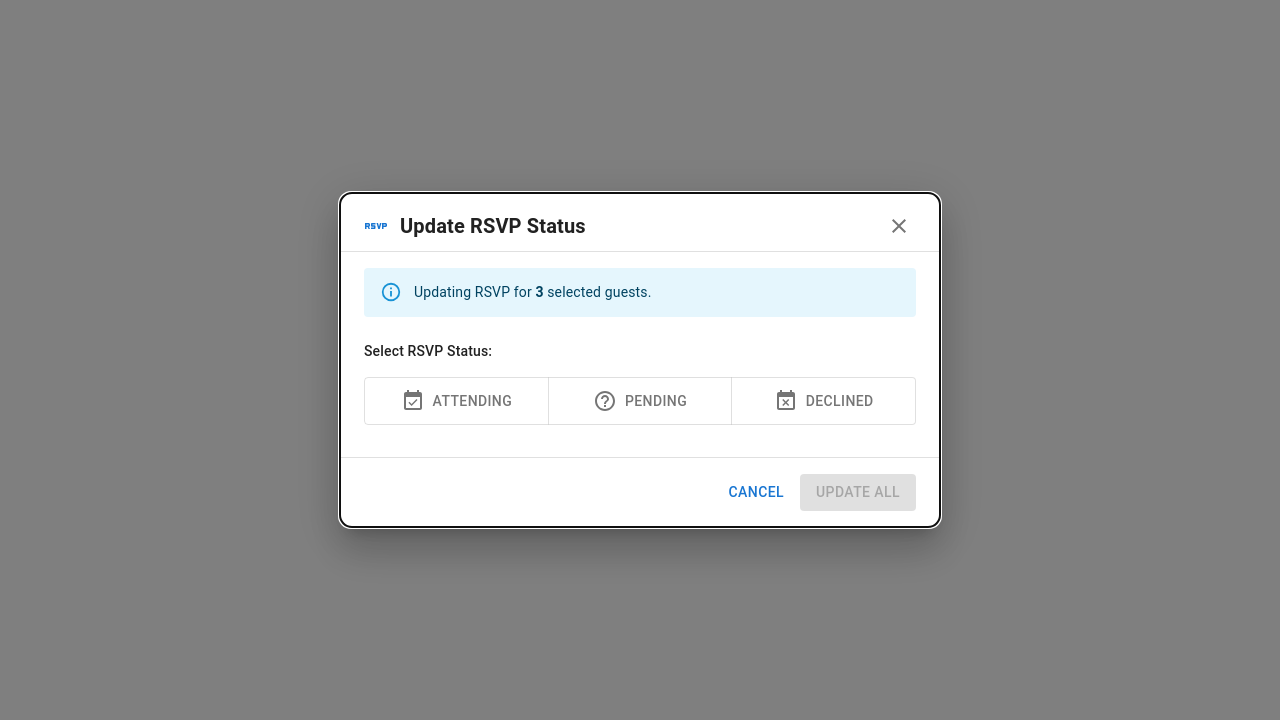
Test: BulkRsvpModal › shows error alert on API failure
Click the button "Attending": [456, 401] box x1=364 y1=376 x2=549 y2=425
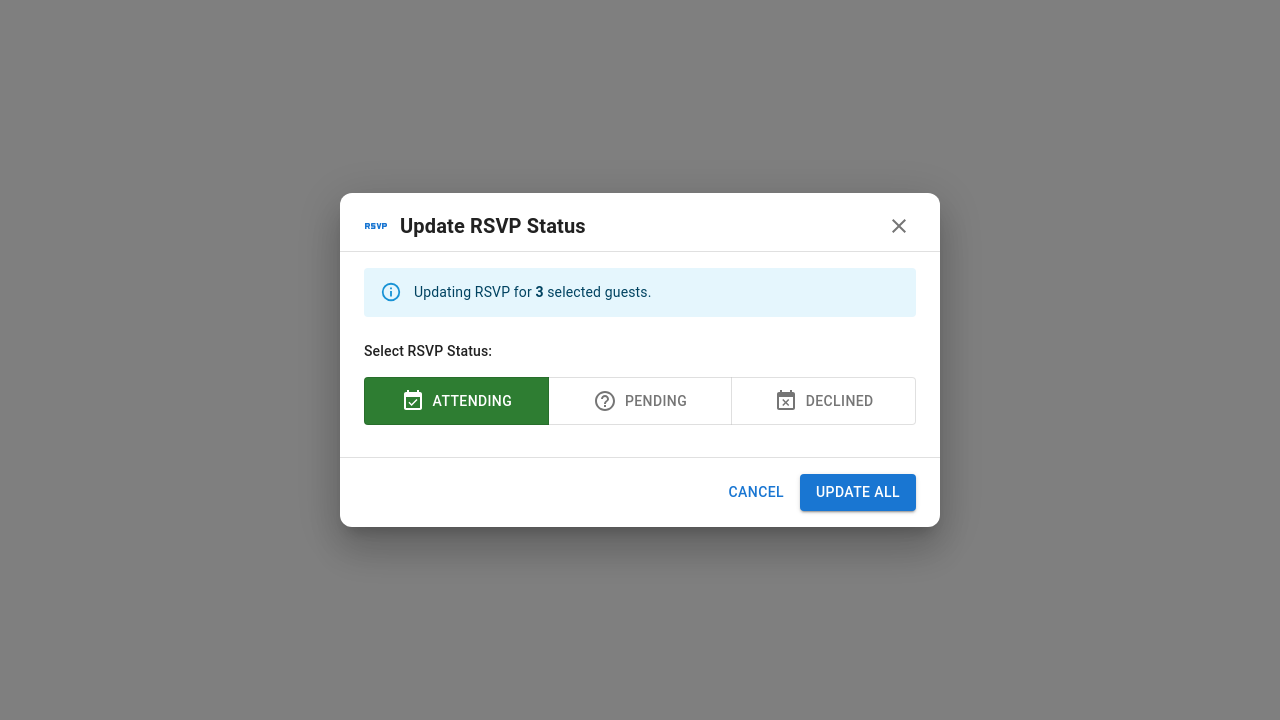
Click the button "Update All": [858, 492] box x1=800 y1=474 x2=916 y2=510
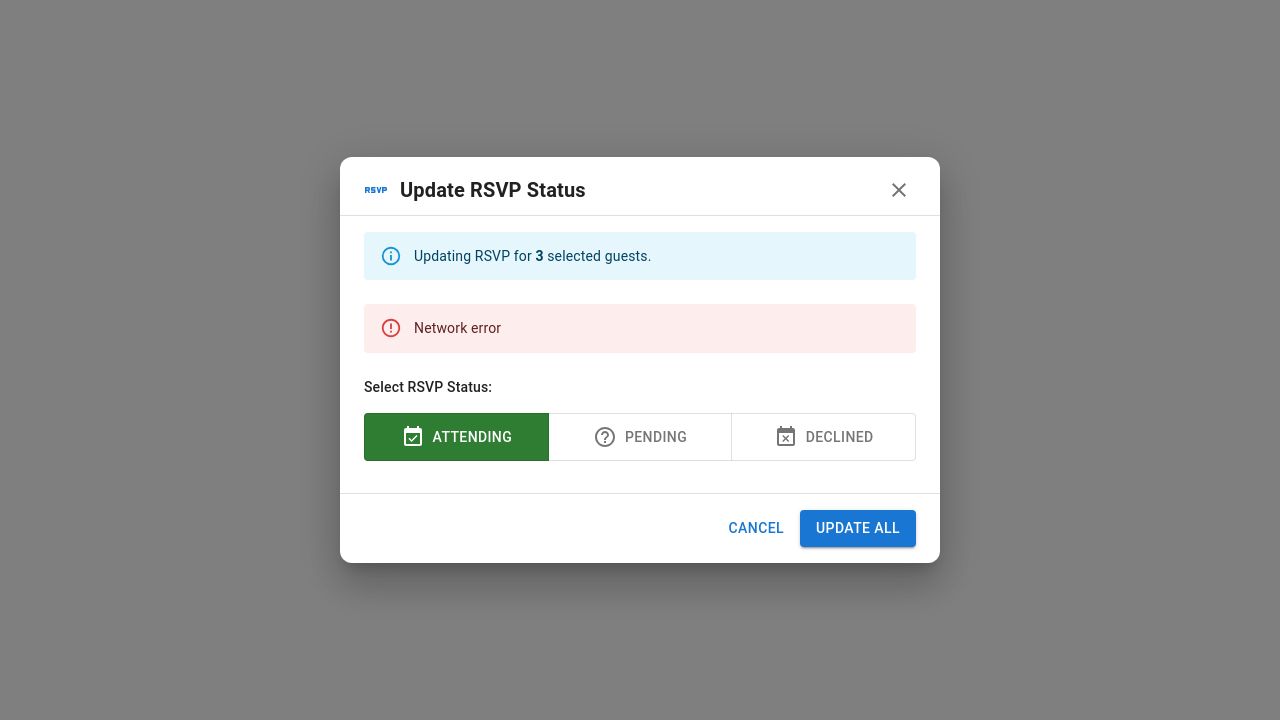
Result: the text "Network error" is shown at x1=414 y1=320 x2=501 y2=336
Result: the message "Network error" is shown at x1=364 y1=304 x2=916 y2=352
